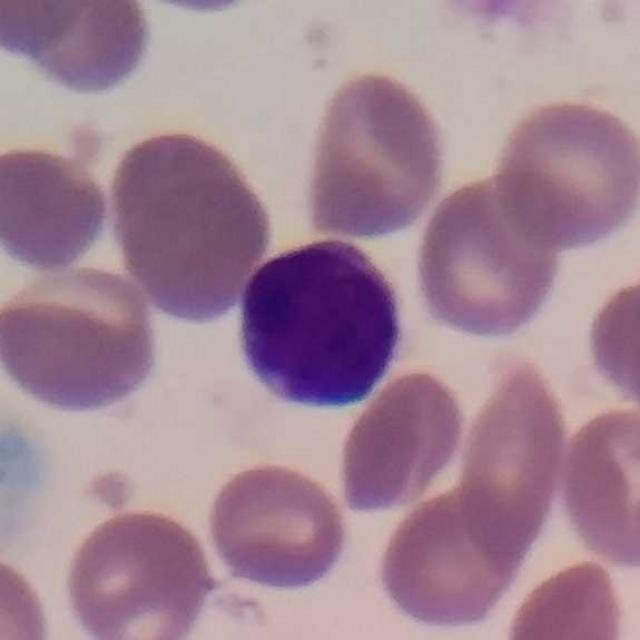Lymphocyte: (226, 229, 416, 422)
RBC: (102, 124, 278, 322), (409, 167, 570, 345), (297, 63, 453, 245), (451, 353, 574, 572), (0, 262, 165, 421), (373, 479, 532, 636), (488, 91, 640, 251), (58, 504, 219, 639), (204, 456, 354, 596), (335, 366, 470, 517), (2, 0, 161, 102), (0, 136, 115, 277), (554, 402, 639, 574), (501, 555, 631, 640), (582, 261, 640, 422), (0, 0, 99, 58), (0, 548, 57, 640)
